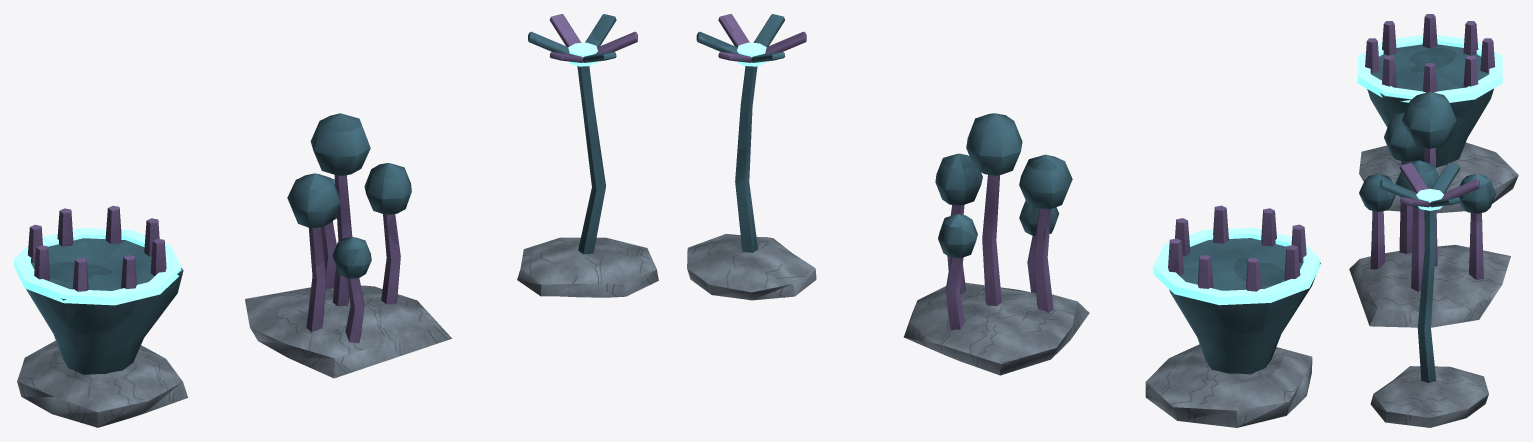
3 views of the same model, side by side, from view 1: azimuth 30°, elevation 25°; view 2: azimuth 150°, elevation 25°; view 3: azimuth 270°, elevation 25° (orthographic). The views are drawn at different scales.
Visible parts, largest first — view 1: DL009_BioluminescentFlora_stone_blue, DL009_BioluminescentFlora_flora_body, DL009_BioluminescentFlora_flora_violet, DL009_BioluminescentFlora_emissive_teal; view 2: DL009_BioluminescentFlora_stone_blue, DL009_BioluminescentFlora_flora_body, DL009_BioluminescentFlora_flora_violet, DL009_BioluminescentFlora_emissive_teal; view 3: DL009_BioluminescentFlora_stone_blue, DL009_BioluminescentFlora_flora_body, DL009_BioluminescentFlora_flora_violet, DL009_BioluminescentFlora_emissive_teal.
Boxes of the visible parts, x1,y1,x2,y2 form: DL009_BioluminescentFlora_stone_blue: (17,237,658,427); DL009_BioluminescentFlora_flora_body: (26,14,616,374); DL009_BioluminescentFlora_flora_violet: (28,14,637,342); DL009_BioluminescentFlora_emissive_teal: (14,42,597,305); DL009_BioluminescentFlora_stone_blue: (687,233,1312,427); DL009_BioluminescentFlora_flora_body: (696,14,1320,374); DL009_BioluminescentFlora_flora_violet: (718,14,1306,330); DL009_BioluminescentFlora_emissive_teal: (737,42,1320,305); DL009_BioluminescentFlora_stone_blue: (1349,142,1518,427); DL009_BioluminescentFlora_flora_body: (1359,44,1495,382); DL009_BioluminescentFlora_flora_violet: (1365,14,1495,291); DL009_BioluminescentFlora_emissive_teal: (1357,35,1502,210).
Bounding box in the file's own units: 5.64 × 2.22 × 1.47.
Materials: 6 (3 with a texture image).
